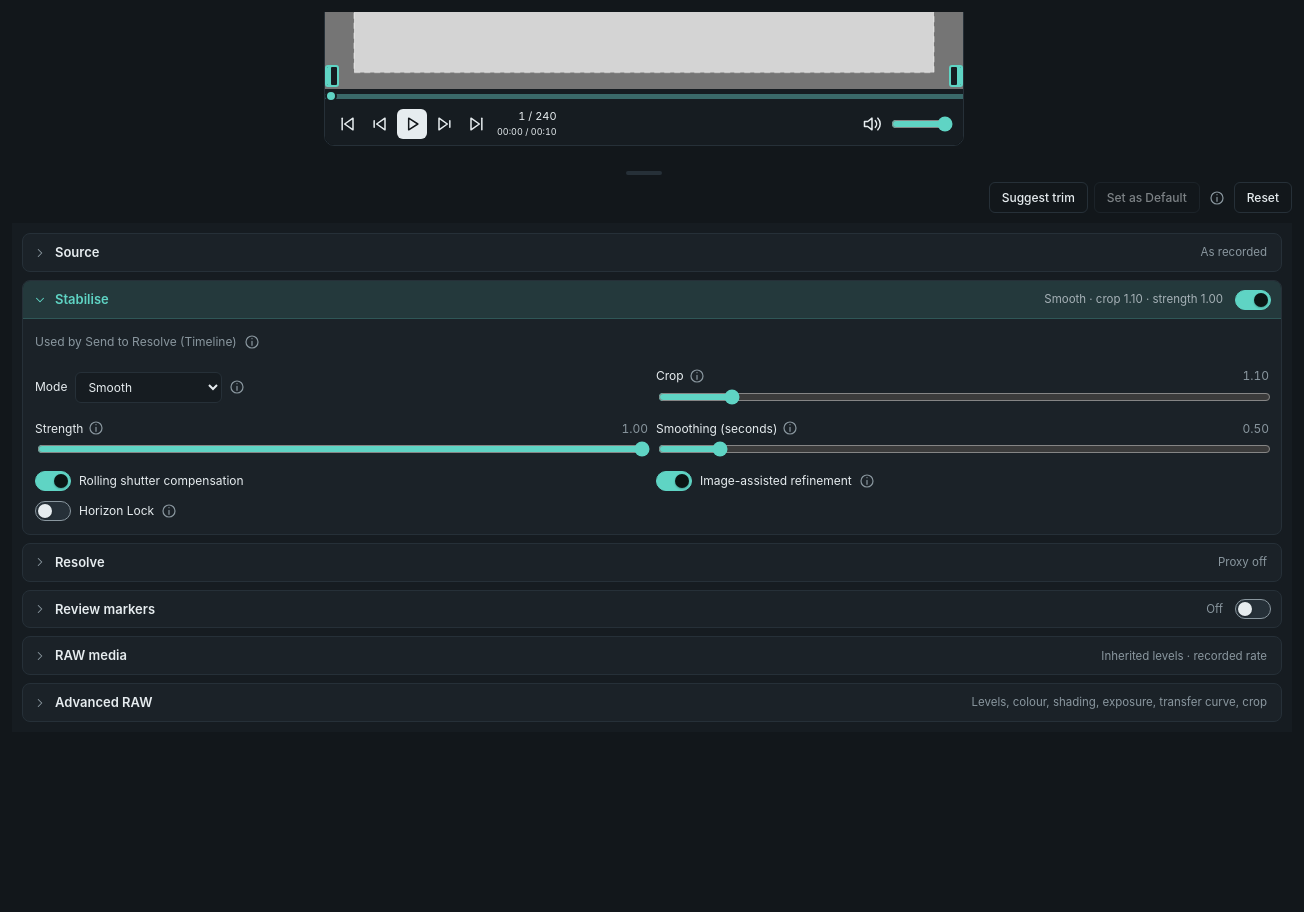
Test case: folds the settings into sections that say what they are set to, with Stabilise open
(page scrolled)
Expected: the button "Stabilise Smooth · crop 1.10 · strength 1.00" is shown, [23,281,1227,318]
Expected: the button "Source As recorded" is shown, [23,234,1271,271]
Click the switch named "Review markers": (1253, 609) [1235,599,1271,619]
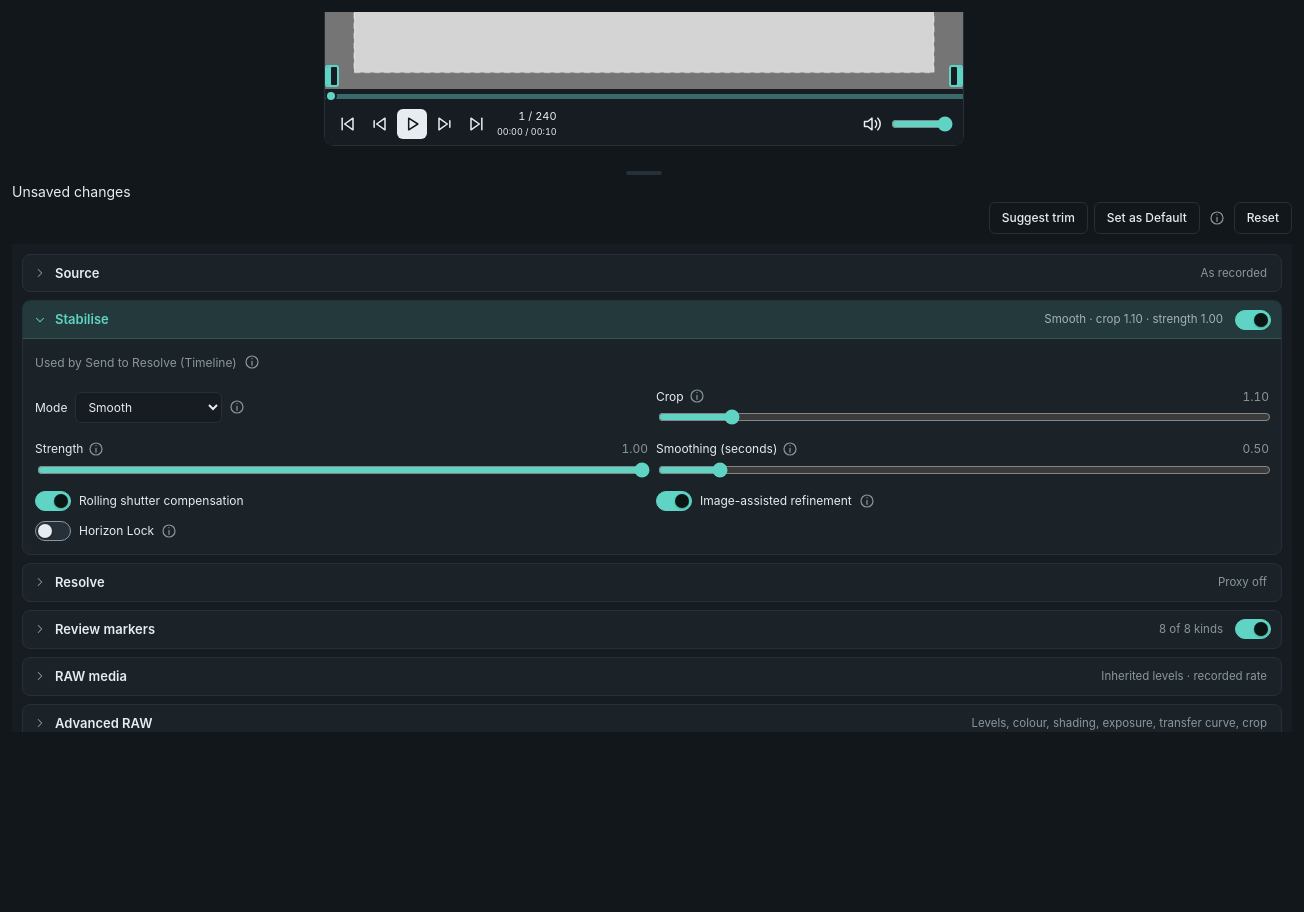
Expected: the button "RAW media Inherited levels · recorded rate" is shown, [23,658,1271,694]
Expected: the button "Review markers 8 of 8 kinds" is shown, [23,611,1227,648]
Click the button "Source As recorded": (77, 273) [23,255,1271,291]
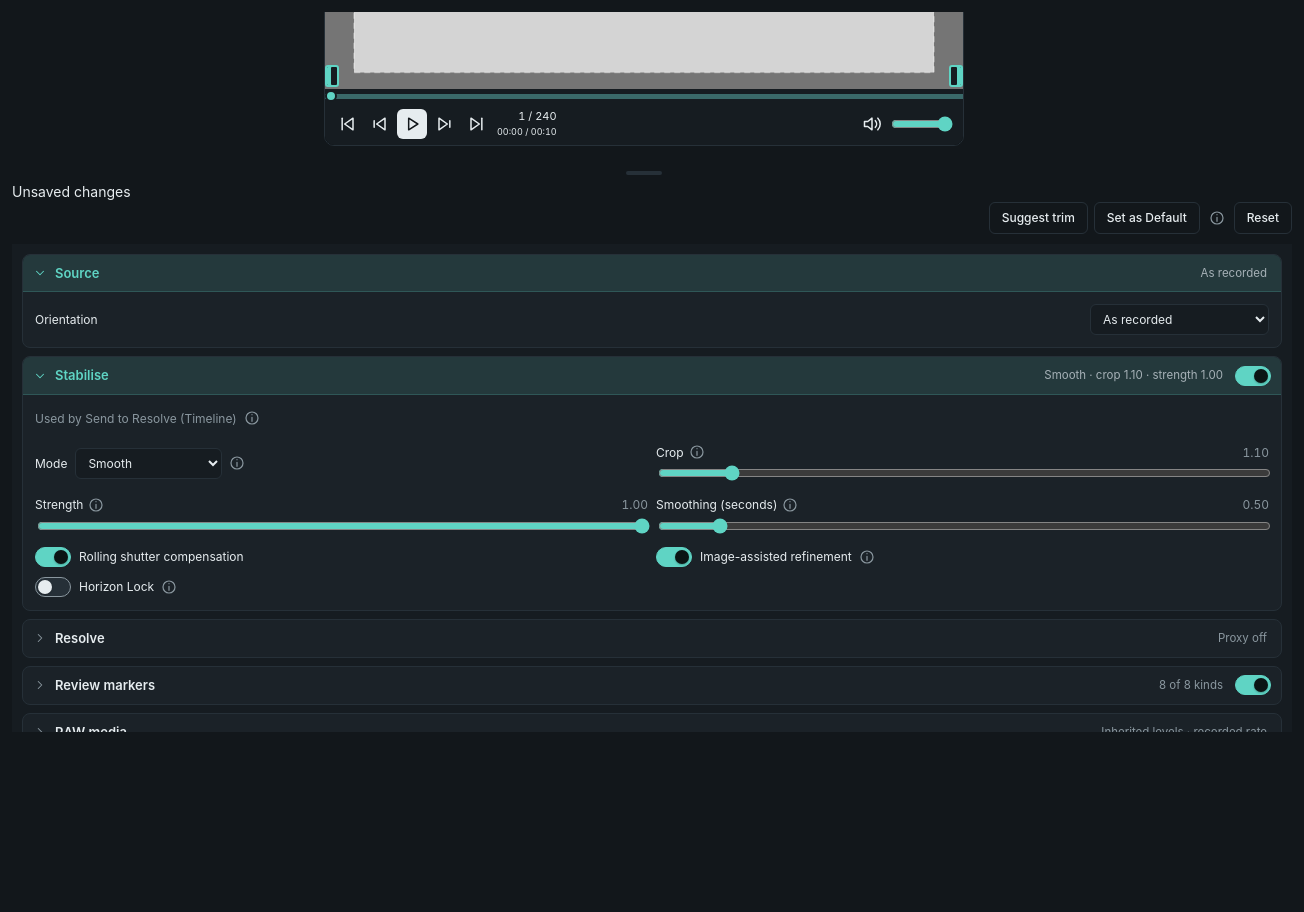
Expected: the dropdown labelled "Orientation" shows "As recorded", [1090,304,1269,335]
